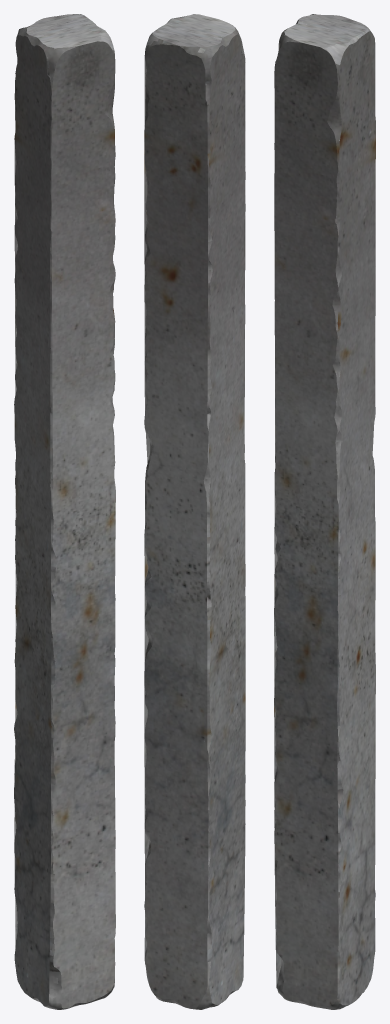
File: Bet_stolb_004-2.fbx
The picture shows the model from 3 angles, left to right: view 1: azimuth 30°, elevation 25°; view 2: azimuth 150°, elevation 25°; view 3: azimuth 330°, elevation 25°; orthographic projection.
Parts seen in each view (by area): view 1: Plane.004_dmg.002; view 2: Plane.004_dmg.002; view 3: Plane.004_dmg.002.
Boxes of the visible parts, bbox=[...] form: Plane.004_dmg.002: bbox=[14, 14, 115, 1009]; Plane.004_dmg.002: bbox=[144, 14, 245, 1009]; Plane.004_dmg.002: bbox=[274, 14, 375, 1009].
Bounding box in the file's own units: 40 × 570 × 40.
